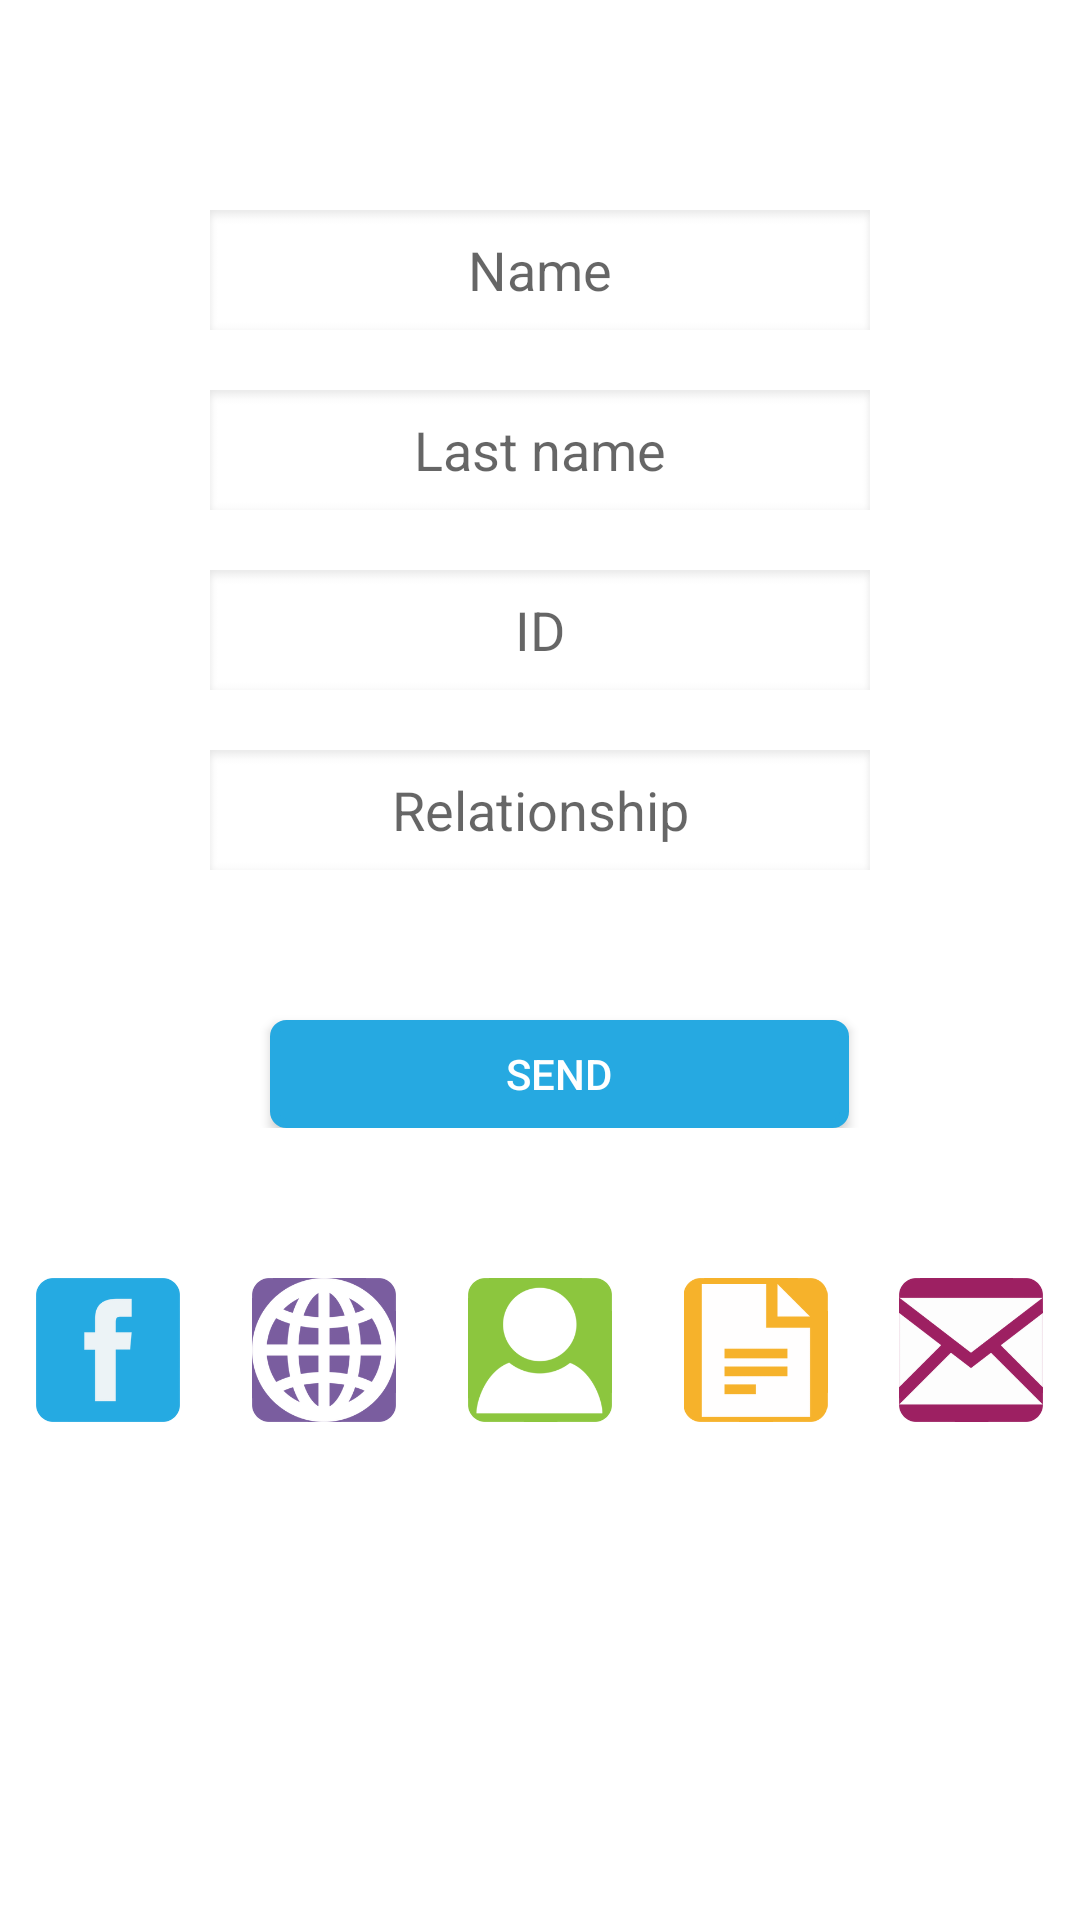

Screen size 1080x1920. Icon name, then its box in pixels as [x1, y1, x2, y2]:
about: [468, 1278, 612, 1422]
mail: [899, 1278, 1043, 1422]
works: [684, 1278, 828, 1422]
world: [252, 1278, 396, 1422]
